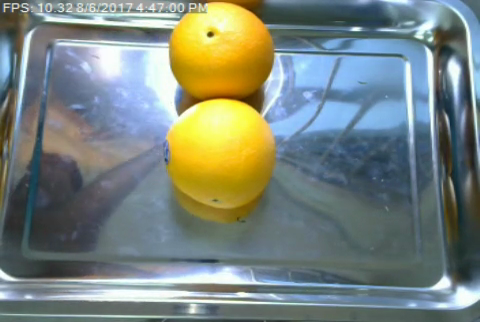Orange: (163, 98, 275, 210), (166, 2, 277, 102)
